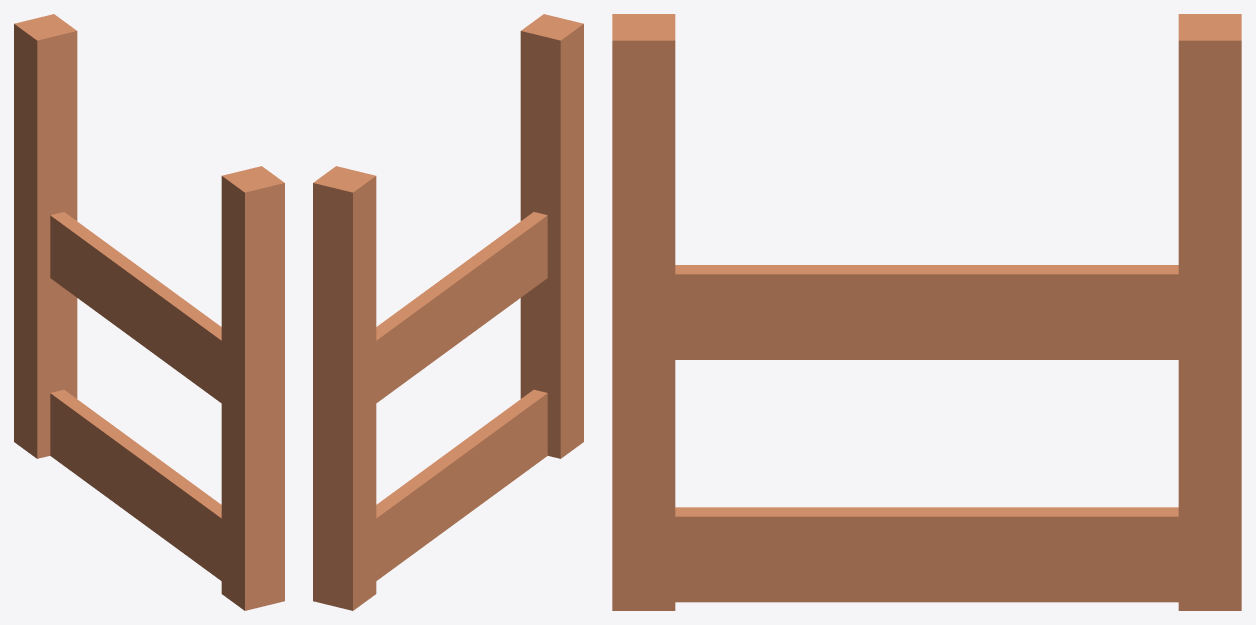
The model's file is polesHorizontal.glb.
The picture shows the model from 3 angles, left to right: view 1: azimuth 30°, elevation 25°; view 2: azimuth 150°, elevation 25°; view 3: azimuth 270°, elevation 25°; orthographic projection. The views are drawn at different scales.
Parts seen in each view (by area): view 1: polesHorizontal; view 2: polesHorizontal; view 3: polesHorizontal.
Part boxes in pixels (x1,y1,x2,y2): polesHorizontal: (14,14,284,610); polesHorizontal: (313,14,583,610); polesHorizontal: (612,14,1241,610).
Size of the model in its own units: 0.1 by 1 by 1.
